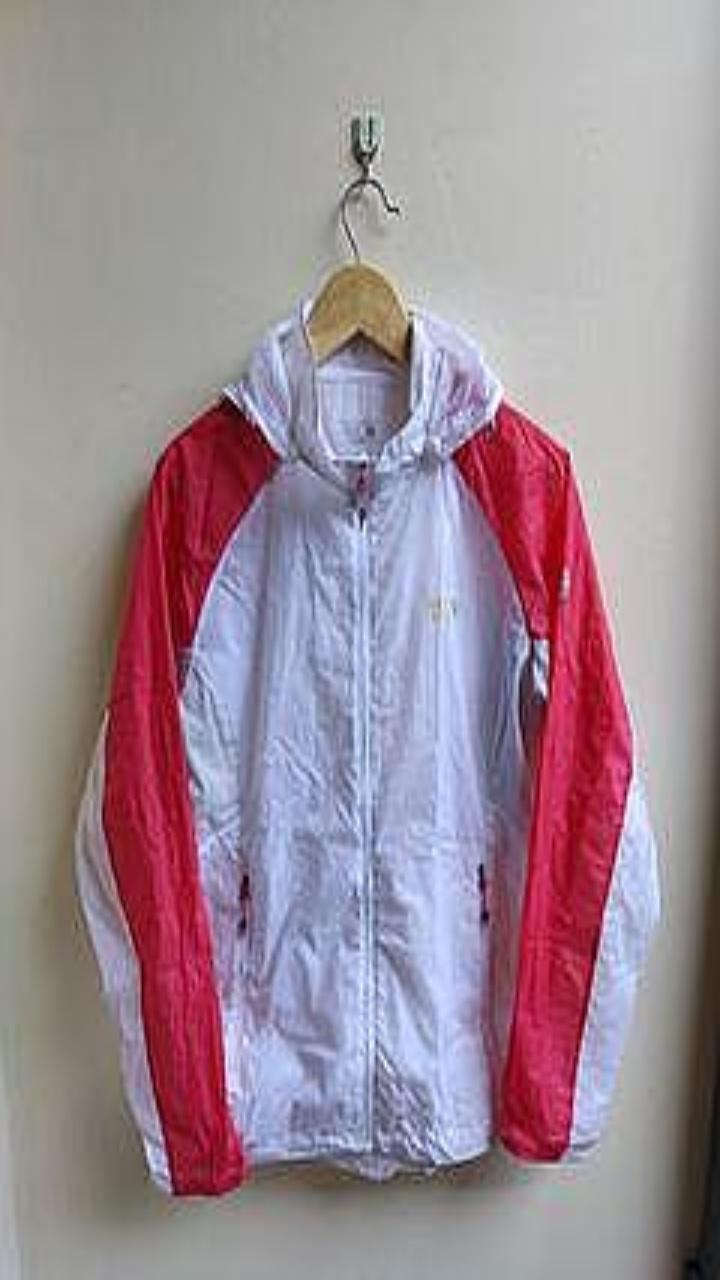Sports_Jacket: (75, 297, 659, 1194)
